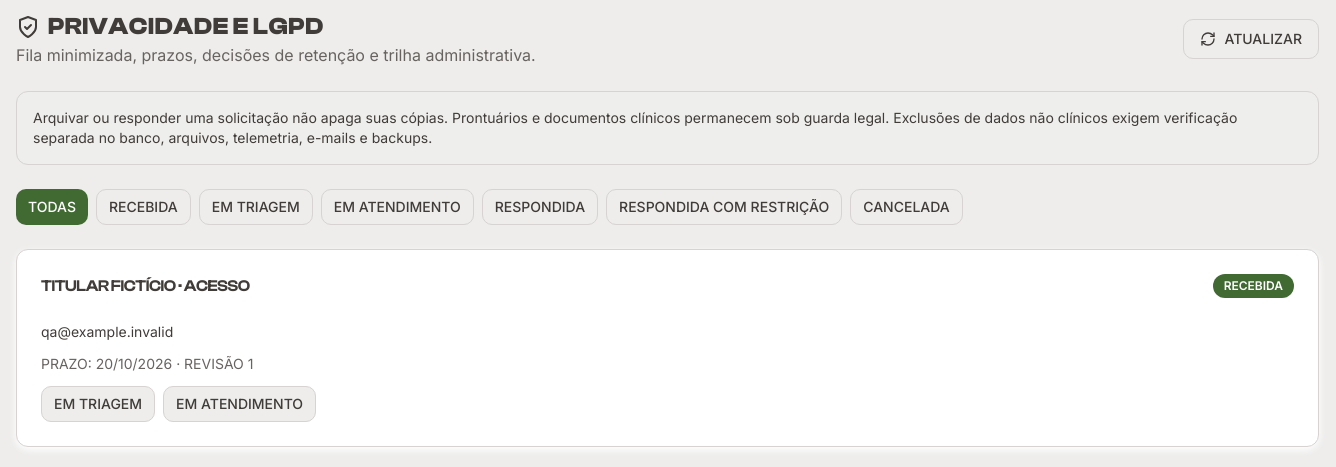
Test: removes confirmed private queue on403
The width and height of the screenshot is (1336, 467).
Check: the heading "Titular fictício · ACESSO" is shown, box [41, 274, 250, 298]
Click the button "ATUALIZAR".
click(1251, 39)  # box [1183, 19, 1319, 59]
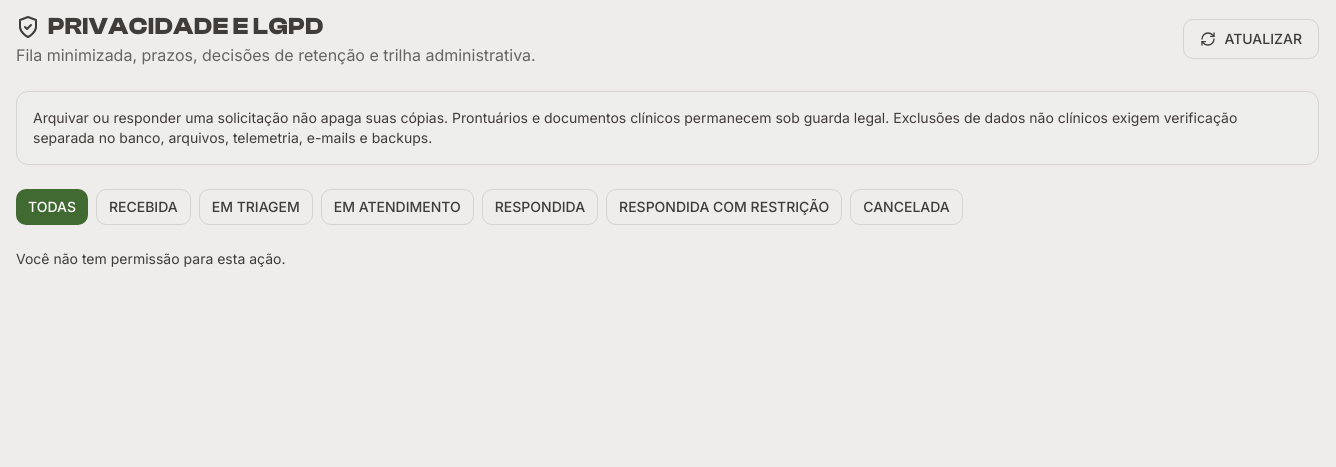
Check: the message "Você não tem permissão para esta ação." is shown, box [16, 250, 286, 267]
Check: the heading "Titular fictício" is gone
